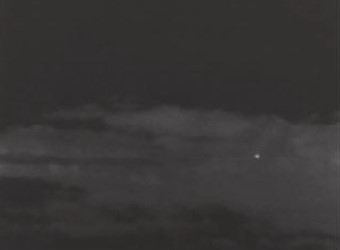Target: (254, 154, 259, 157)
